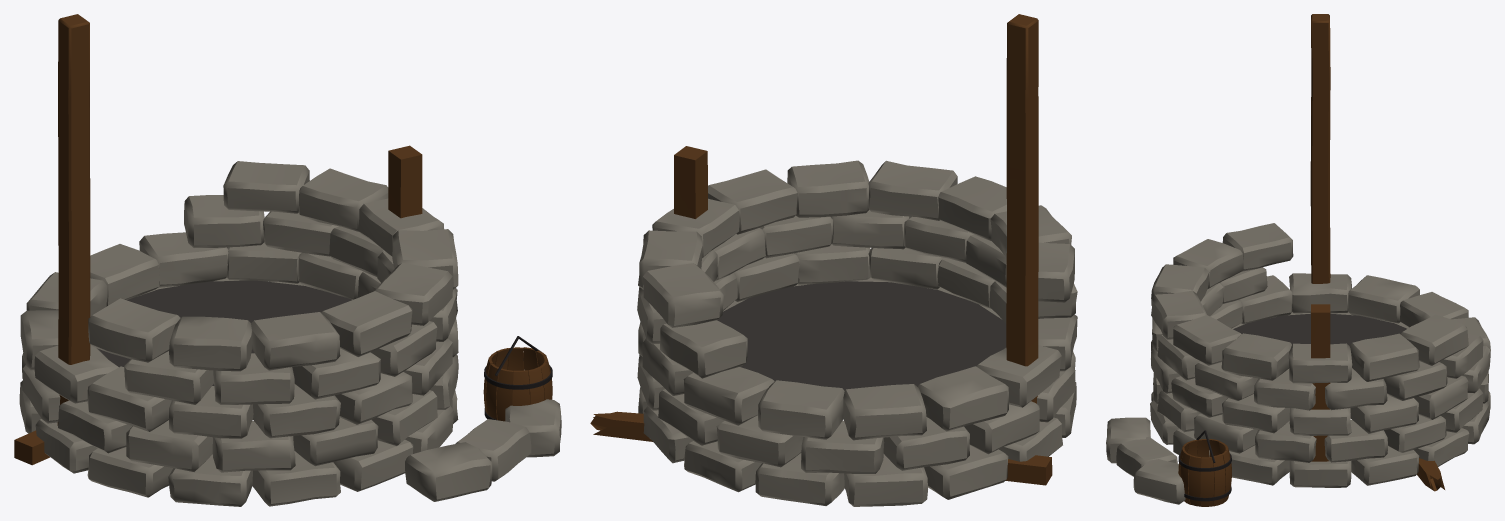
The model's file is brunnen_kaputt.glb.
3 renders of one model, left to right at view 1: azimuth 30°, elevation 25°; view 2: azimuth 150°, elevation 25°; view 3: azimuth 270°, elevation 25°, orthographic. The views are drawn at different scales.
Visible parts, largest first — view 1: brunnen_kaputt; view 2: brunnen_kaputt; view 3: brunnen_kaputt.
Part boxes in pixels (x1=…): brunnen_kaputt: x1=14, y1=14, x2=561, y2=506; brunnen_kaputt: x1=590, y1=14, x2=1077, y2=506; brunnen_kaputt: x1=1106, y1=14, x2=1490, y2=506.
Bounding box in the file's own units: 2.05 × 1.96 × 2.
